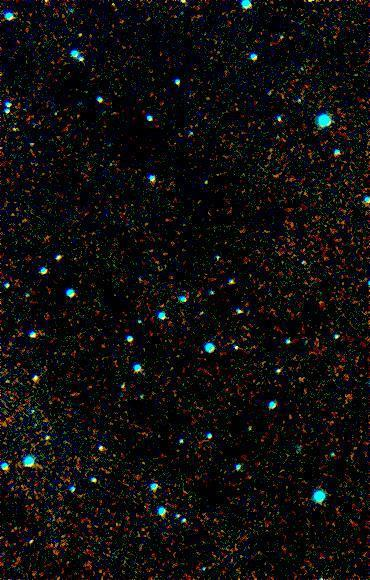star: (64, 19, 94, 49)
